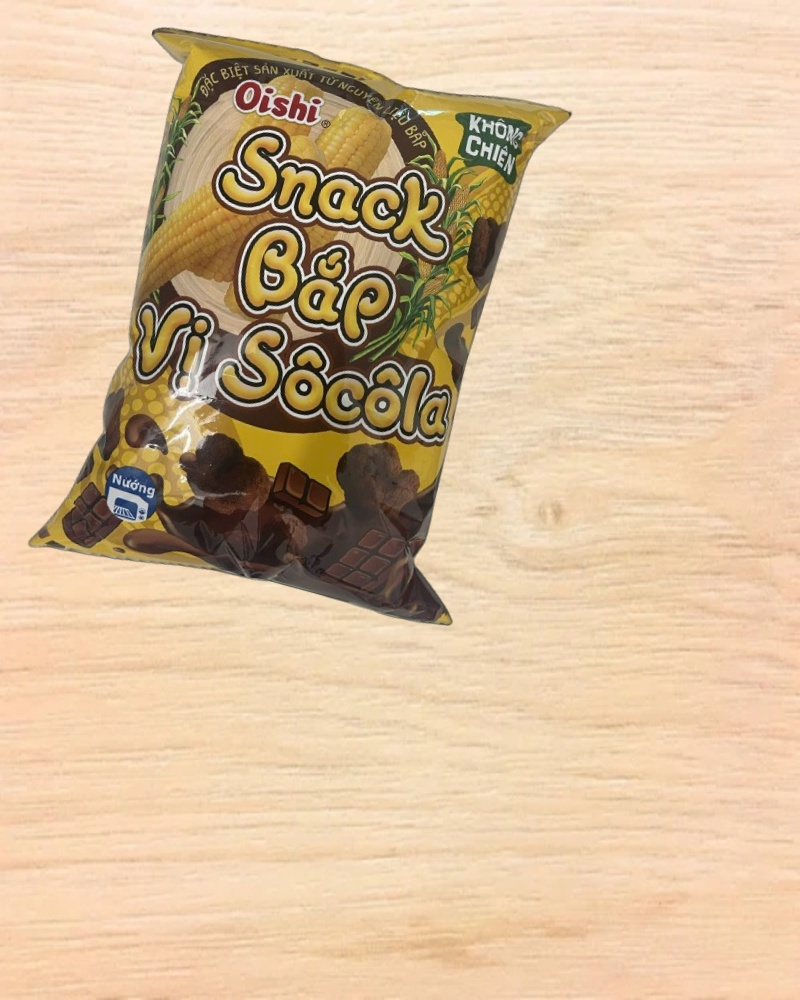Snack socola: (21, 6, 587, 646)
